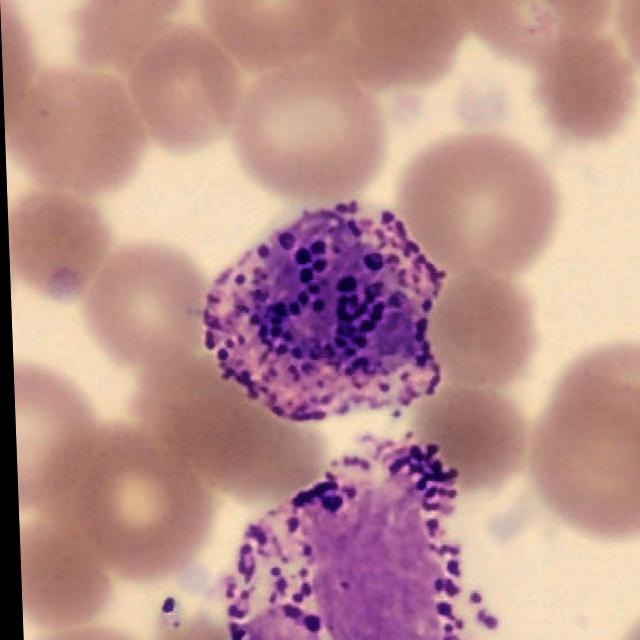Basofilo: (198, 199, 442, 419)
